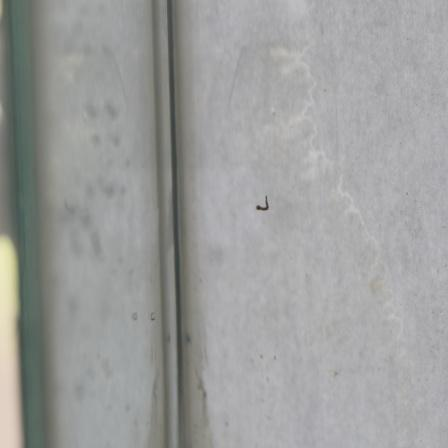Jentik-Nyamuk: (250, 193, 273, 216)
